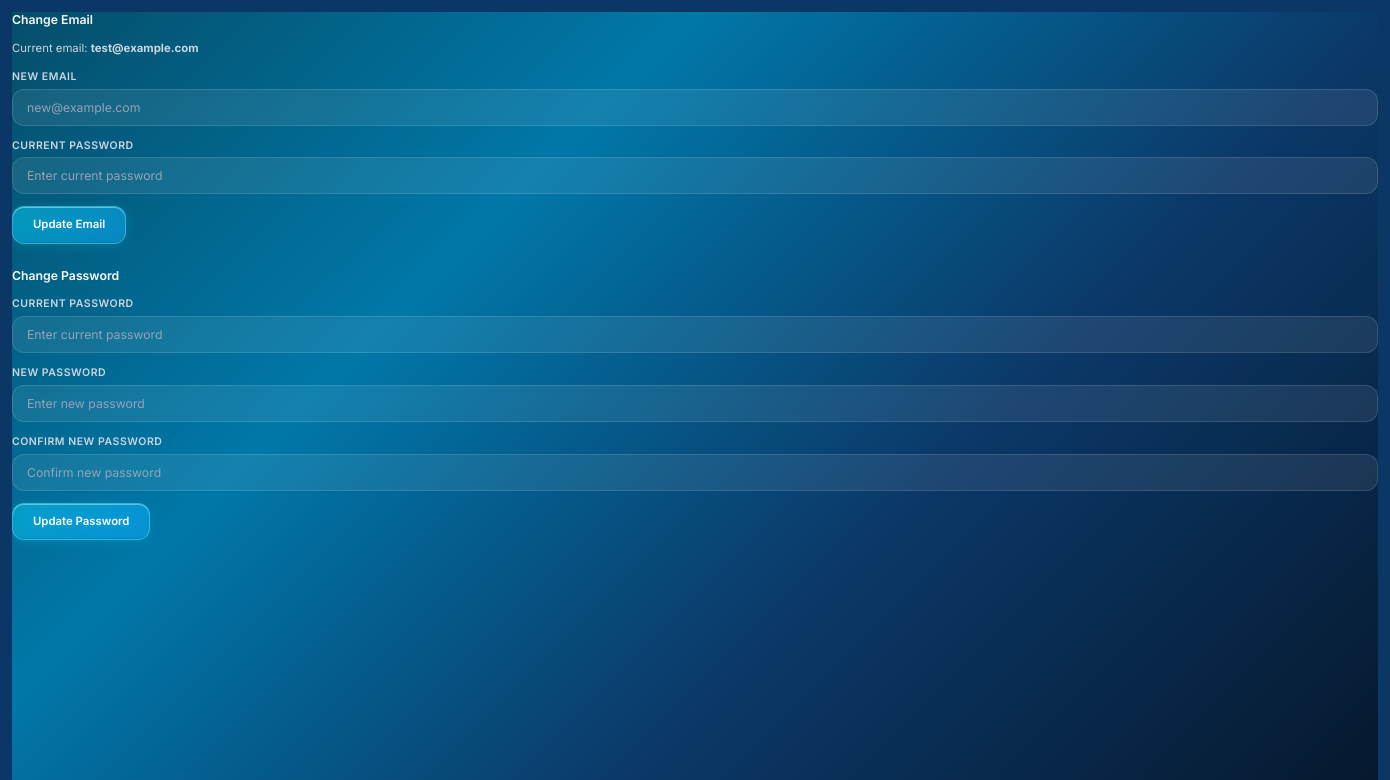
ProfileSection › shows error when new password is too short
Type "x-cur" into the password field labelled "Current Password" below "Change Password" at {"x": 695, "y": 335}, box [12,316,1378,353]
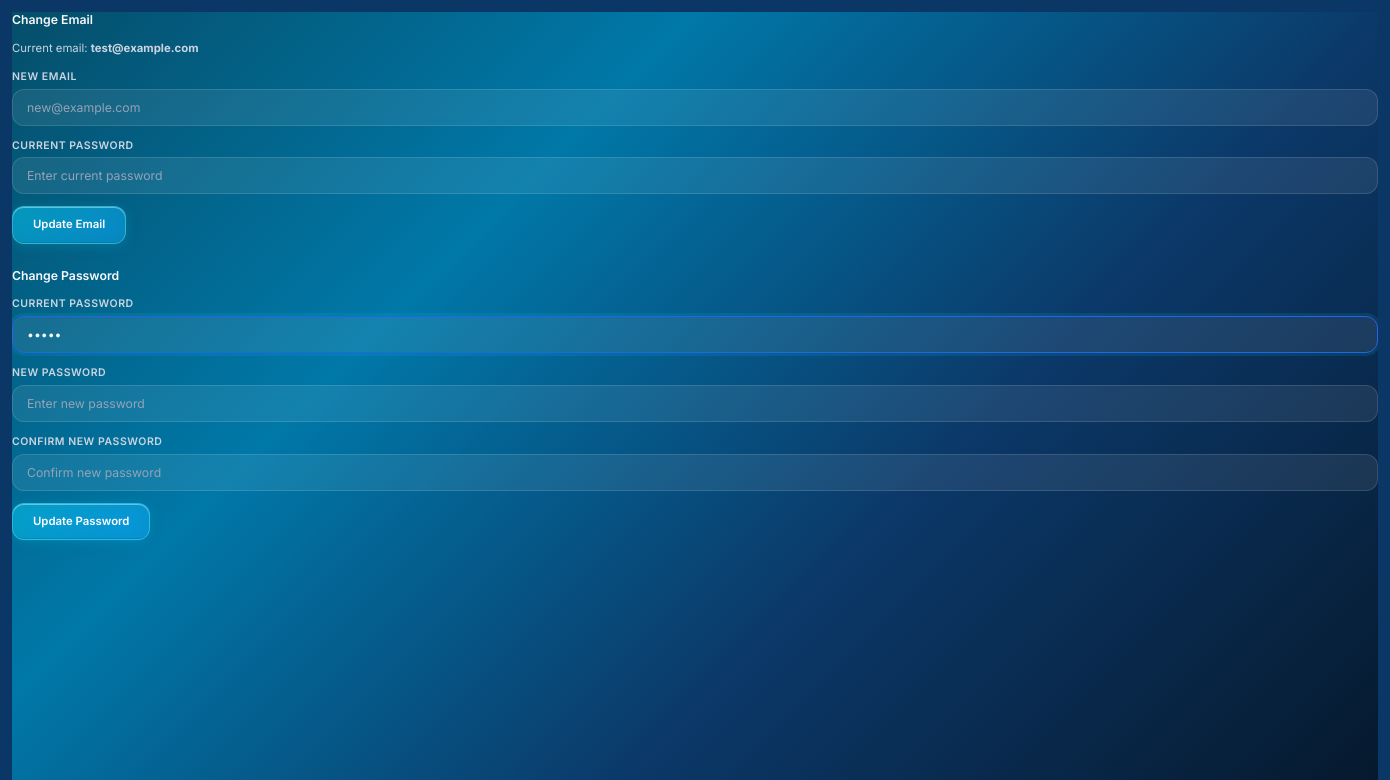
Type "abc" into the password field labelled "New Password" at {"x": 695, "y": 403}, box [12,385,1378,422]
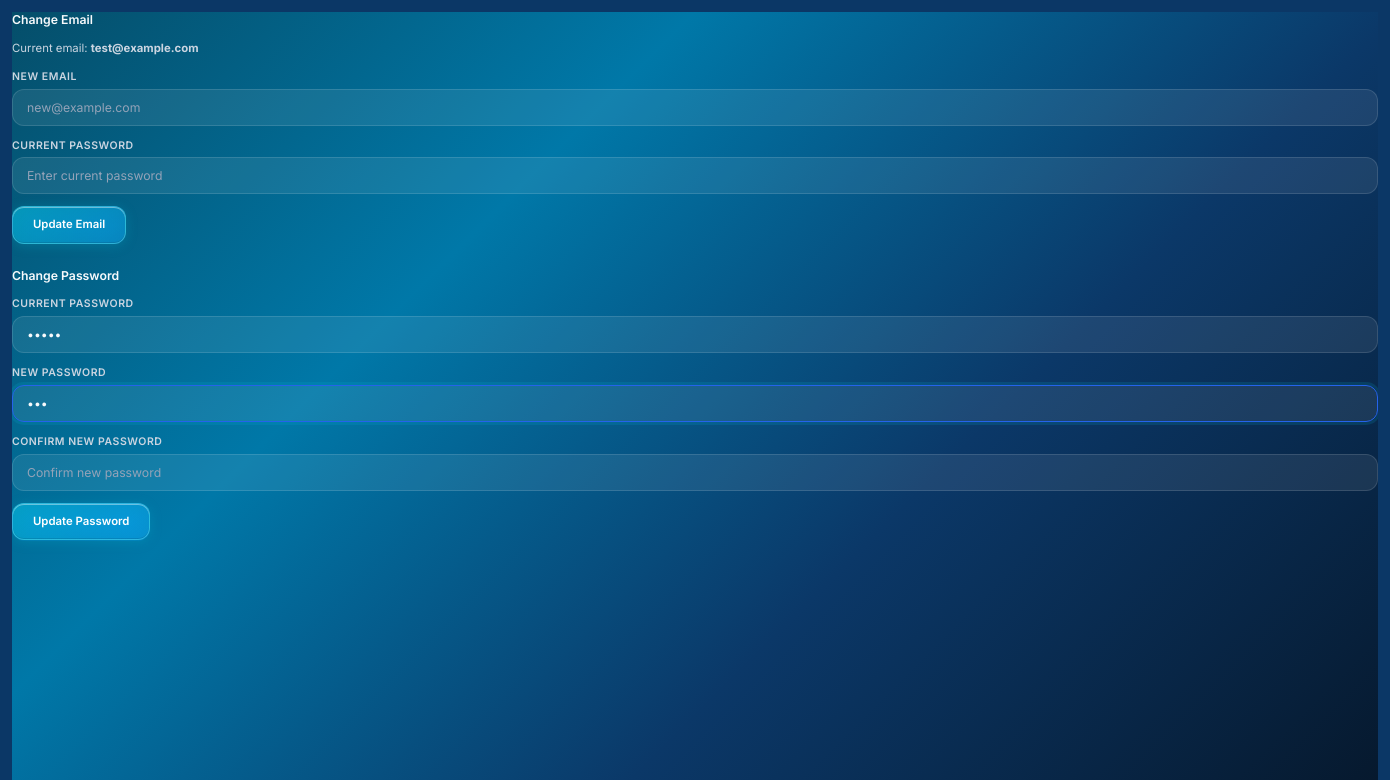
Type "abc" into the password field labelled "Confirm New Password" at {"x": 695, "y": 472}, box [12,454,1378,491]
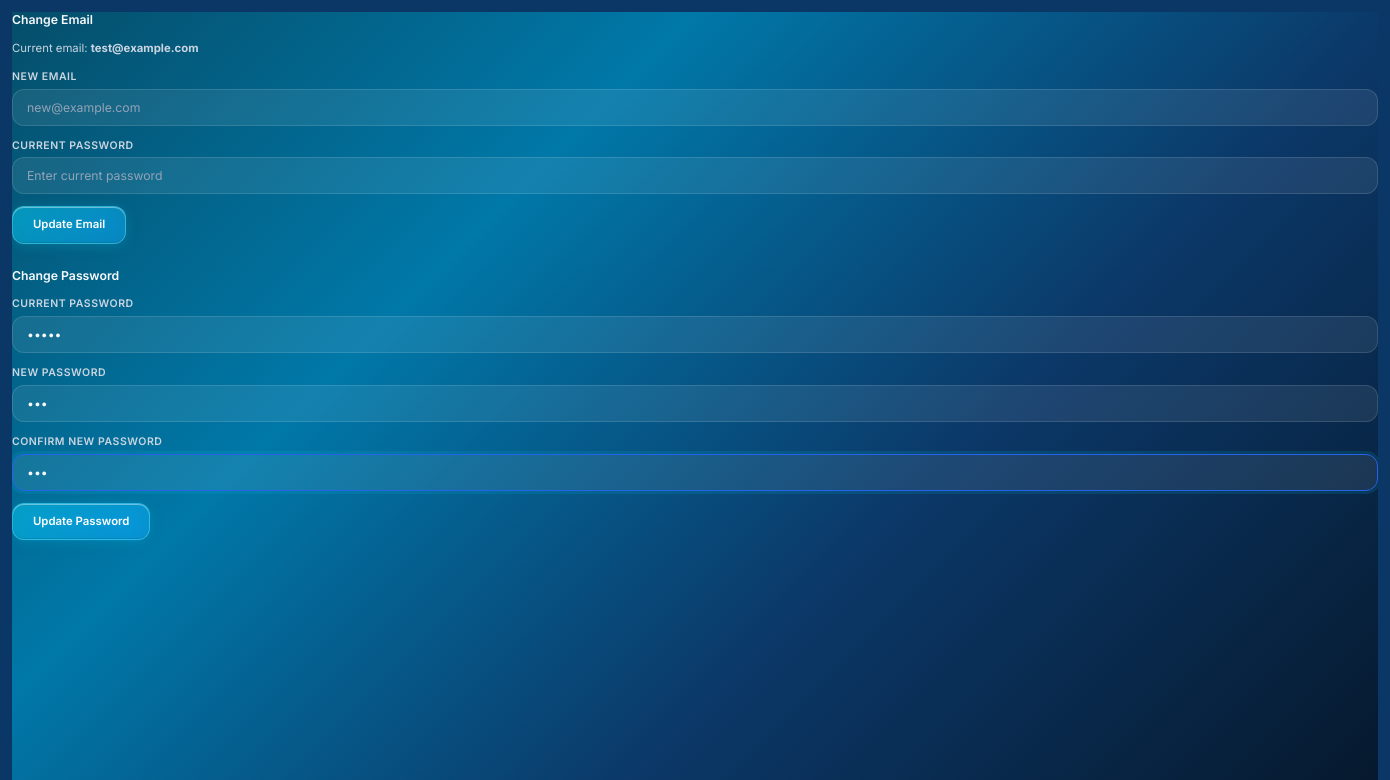
Click the button "Update Password" at {"x": 81, "y": 522}, box [12,503,150,540]
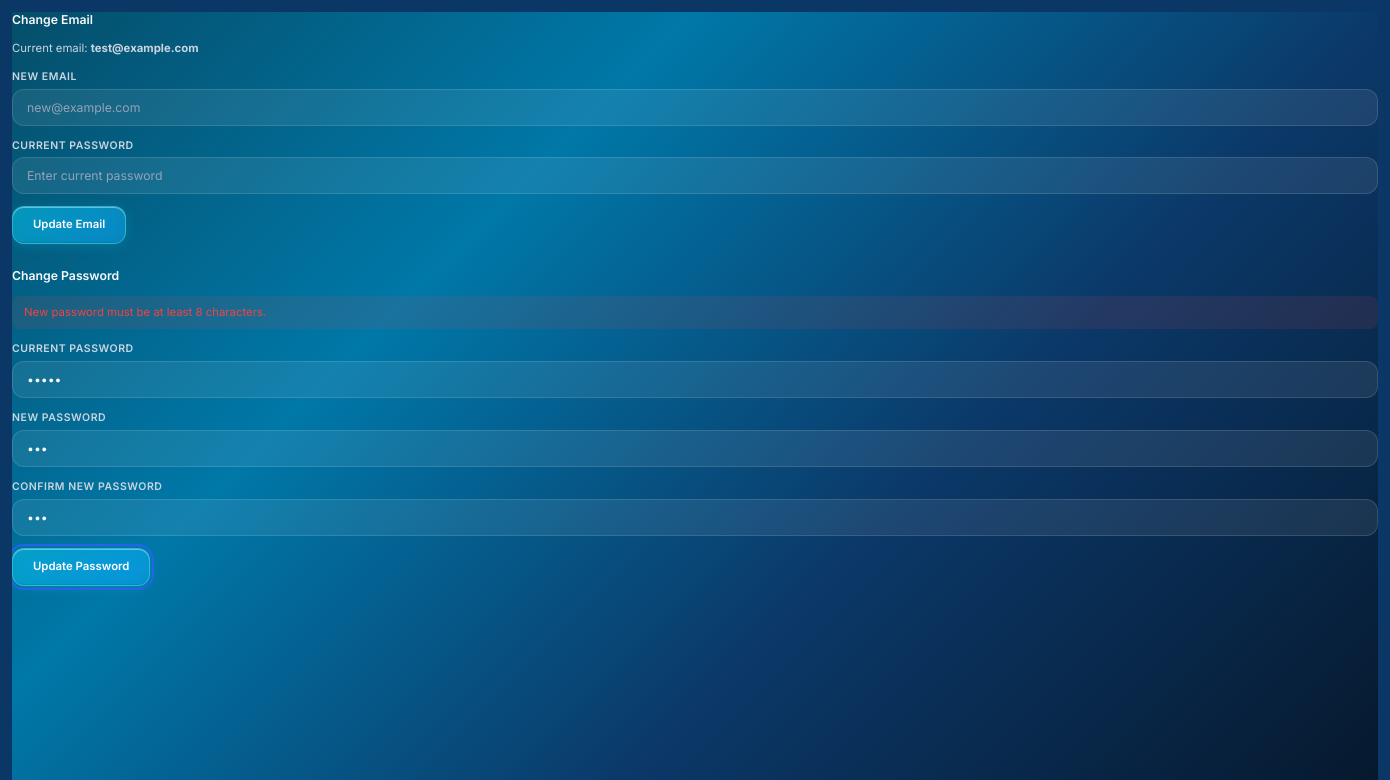
Result: the text "New password must be at least 8 characters." is shown at [12,296,1378,329]
